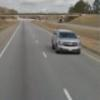cars: (52, 29, 82, 54)
